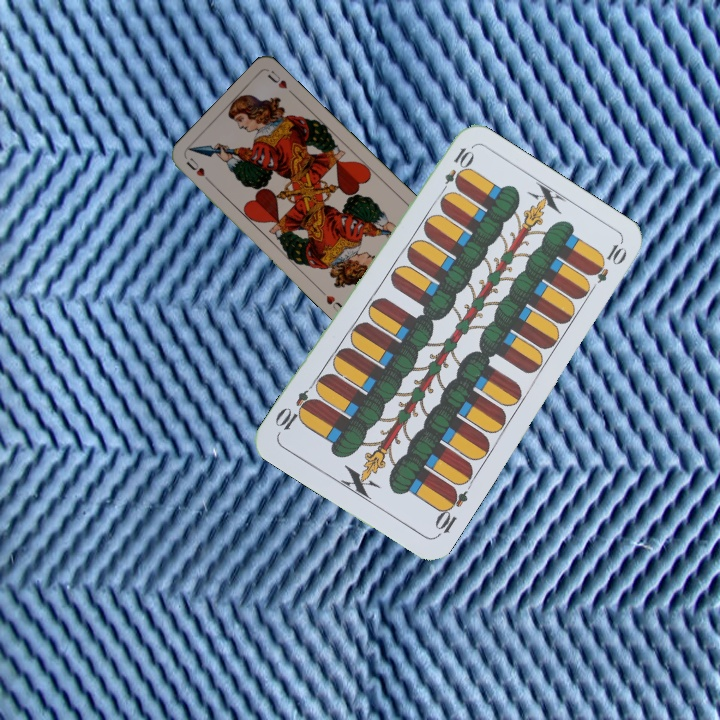E10: (430, 483, 471, 540), (435, 143, 475, 199)
HU: (183, 154, 214, 186)
